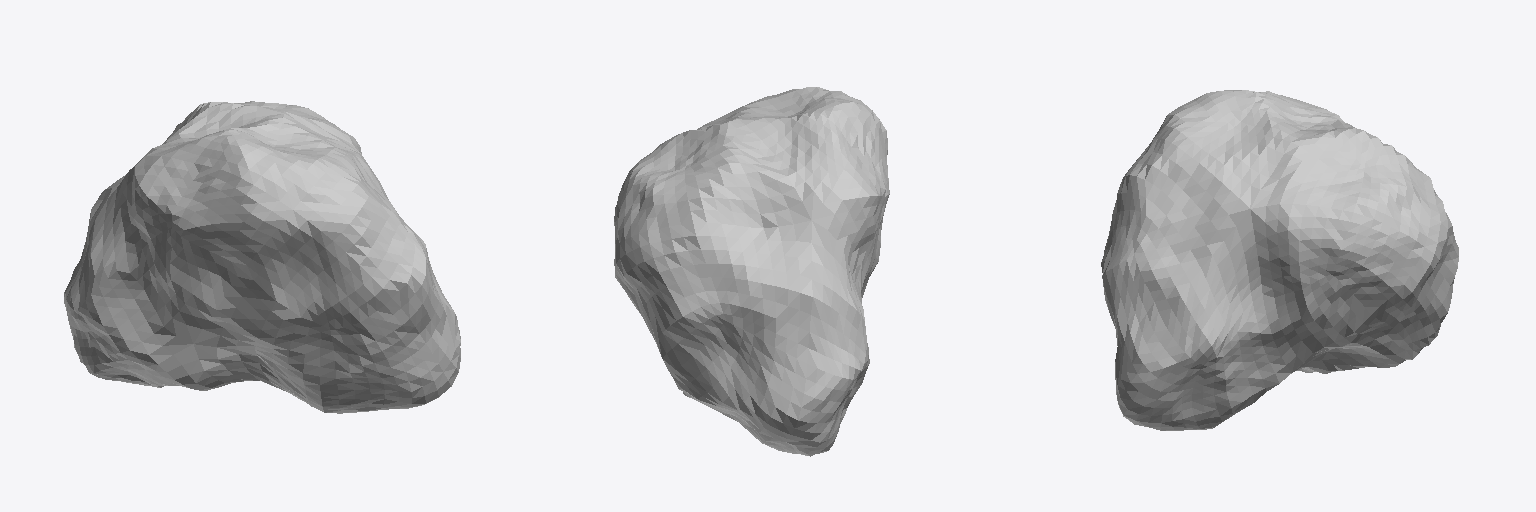
Rendered from asteroid_006.obj.
3 views of the same model, side by side, from view 1: azimuth 30°, elevation 25°; view 2: azimuth 150°, elevation 25°; view 3: azimuth 270°, elevation 25° (orthographic).
Visible parts, largest first — view 1: rock; view 2: rock; view 3: rock.
Boxes of the visible parts, box(x1,y1,x2,y2) form: rock: box(64, 101, 460, 413); rock: box(614, 87, 889, 456); rock: box(1101, 90, 1458, 430).
Size of the model in its own units: 2.45 by 2.44 by 2.75.